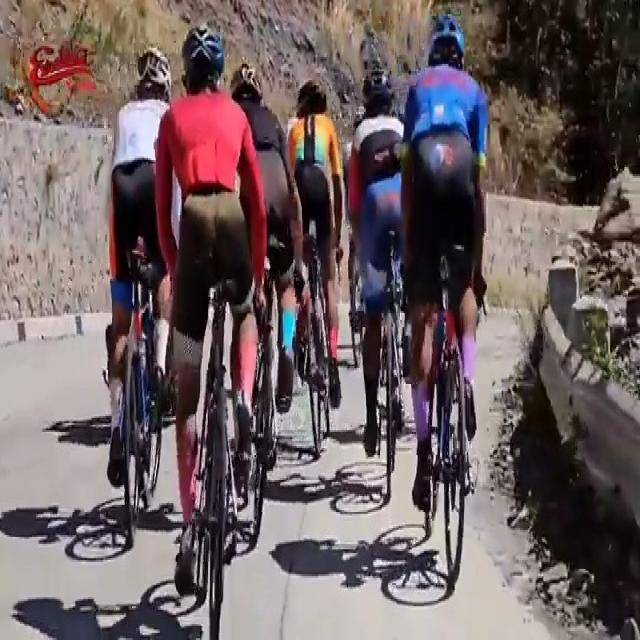bike: (160, 21, 254, 640), (398, 22, 492, 596), (101, 42, 170, 538), (230, 56, 298, 534), (343, 64, 406, 477), (287, 79, 347, 456)
